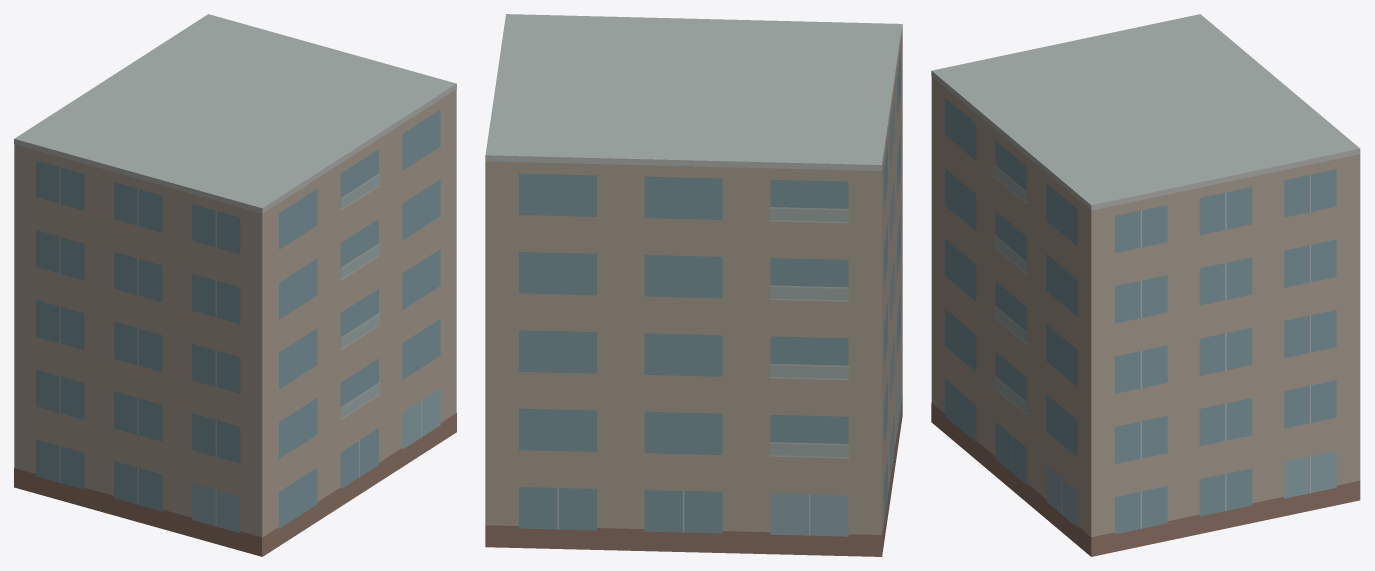
Rendered from survey-upis-32708885.glb.
The picture shows the model from 3 angles, left to right: view 1: azimuth 30°, elevation 25°; view 2: azimuth 150°, elevation 25°; view 3: azimuth 270°, elevation 25°; orthographic projection. The views are drawn at different scales.
Parts seen in each view (by area): view 1: survey-upis-32708885.tmp; view 2: survey-upis-32708885.tmp; view 3: survey-upis-32708885.tmp.
Part boxes in pixels (x1,y1,x2,y2): survey-upis-32708885.tmp: (14,14,456,556); survey-upis-32708885.tmp: (485,14,902,556); survey-upis-32708885.tmp: (931,14,1360,556).
Bounding box in the file's own units: 18.56 × 15.9 × 17.59.
